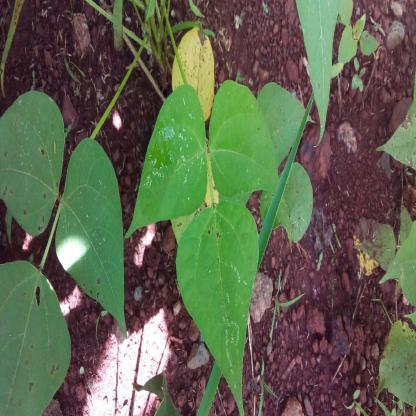Beans_Angular_LeafSpot: (180, 198, 255, 396), (0, 258, 69, 415), (130, 91, 209, 217), (0, 95, 63, 227), (379, 99, 416, 182), (384, 323, 416, 409)
